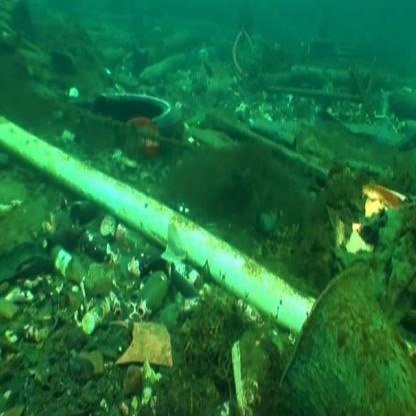rod: (14, 126, 304, 354)
